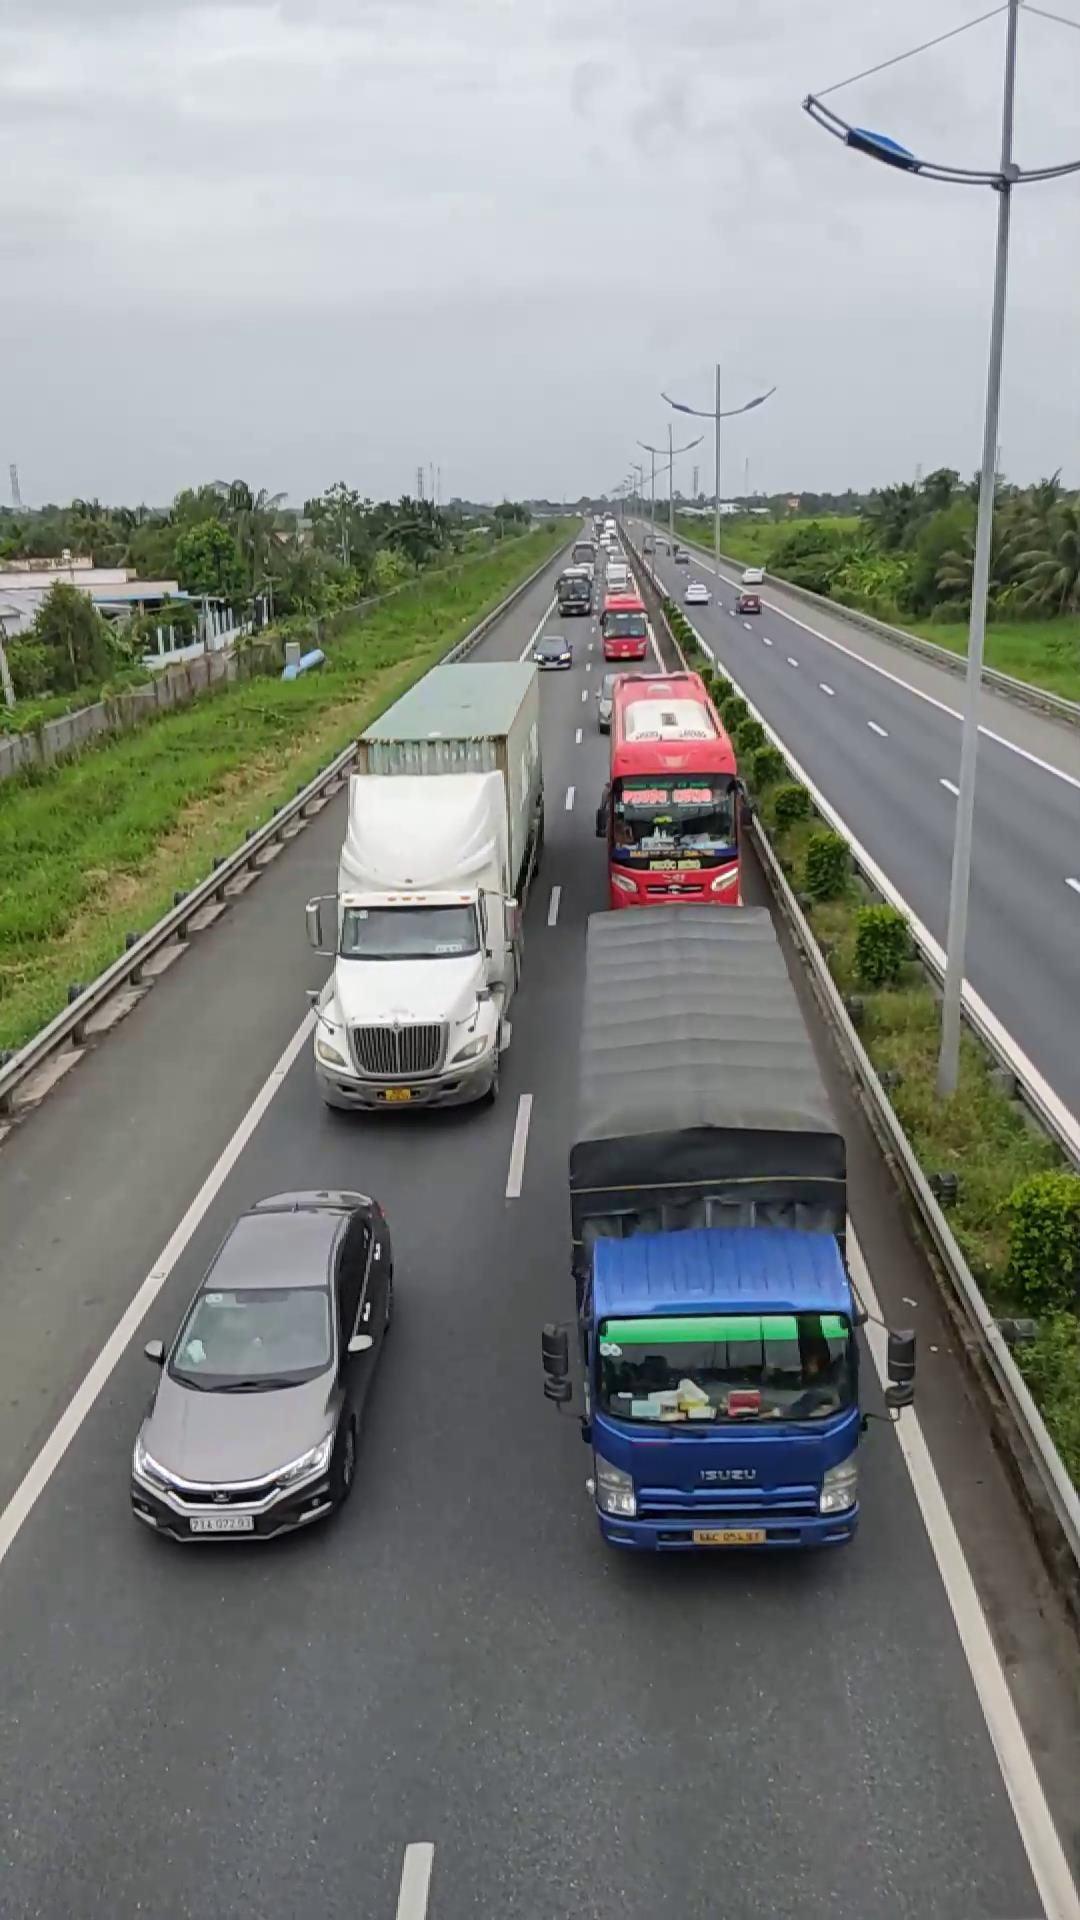bus: (596, 664, 748, 904)
car: (128, 1187, 399, 1541)
container: (311, 651, 546, 1114)
truck: (544, 923, 879, 1559)
